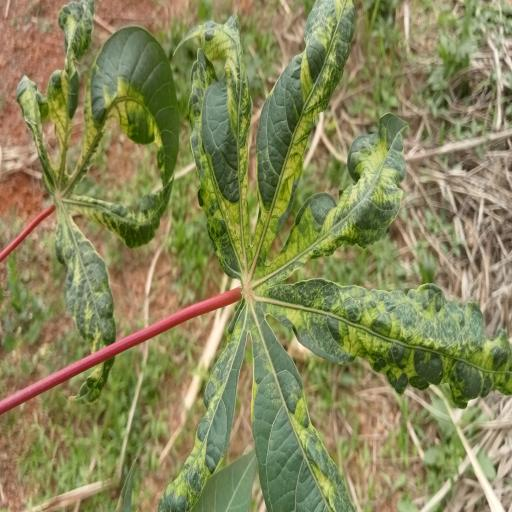Cassava_Mosaic: (178, 0, 512, 512), (12, 0, 181, 407)
